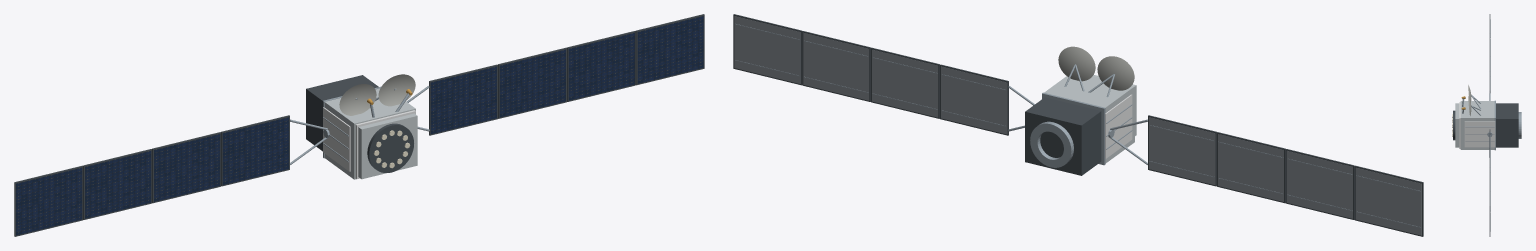
The model's file is ssl-1300-xband.glb.
3 renders of one model, left to right at view 1: azimuth 30°, elevation 25°; view 2: azimuth 150°, elevation 25°; view 3: azimuth 270°, elevation 25°, orthographic. The views are drawn at different scales.
Parts seen in each view (by area): view 1: Solar cell panel (×8), Solar panel frame (×8), Communications reflector (×2), Service module, Planar antenna aperture, Payload module, Antenna equipment shelf, Radiator face, Earth-facing deck; view 2: Rear array substrate (×8), Service module, Solar panel frame (×8), Communications reflector (×2), Payload module, Radiator face, Launch adapter ring, Module interface; view 3: Service module, Payload module, Radiator face, Antenna equipment shelf, Launch adapter ring, Solar panel frame, Earth-facing deck, Planar antenna aperture, Module interface, Radiator seam, Communications reflector.
Boxes of the visible parts, left/top/right/bottom form: Solar cell panel (×8): left=16, top=16, right=703, bottom=235; Solar panel frame (×8): left=14, top=14, right=704, bottom=236; Communications reflector (×2): left=339, top=74, right=415, bottom=115; Service module: left=306, top=75, right=378, bottom=151; Planar antenna aperture: left=367, top=123, right=413, bottom=172; Payload module: left=324, top=88, right=415, bottom=179; Antenna equipment shelf: left=358, top=113, right=417, bottom=179; Radiator face: left=323, top=107, right=350, bottom=171; Earth-facing deck: left=355, top=110, right=415, bottom=178; Rear array substrate (×8): left=734, top=16, right=1421, bottom=235; Service module: left=1025, top=97, right=1101, bottom=175; Solar panel frame (×8): left=733, top=14, right=1423, bottom=236; Communications reflector (×2): left=1058, top=46, right=1134, bottom=90; Payload module: left=1044, top=76, right=1134, bottom=163; Radiator face: left=1105, top=94, right=1132, bottom=158; Launch adapter ring: left=1030, top=121, right=1073, bottom=167; Module interface: left=1042, top=92, right=1105, bottom=165; Service module: left=1496, top=103, right=1518, bottom=147; Payload module: left=1460, top=101, right=1494, bottom=149; Radiator face: left=1464, top=121, right=1495, bottom=147; Antenna equipment shelf: left=1455, top=103, right=1459, bottom=147; Launch adapter ring: left=1518, top=112, right=1521, bottom=138; Solar panel frame: left=1489, top=187, right=1490, bottom=236; Earth-facing deck: left=1459, top=102, right=1460, bottom=148; Planar antenna aperture: left=1453, top=110, right=1455, bottom=140; Module interface: left=1494, top=100, right=1495, bottom=150; Radiator seam: left=1465, top=126, right=1494, bottom=127; Communications reflector: left=1468, top=96, right=1471, bottom=115.
Size of the model in its own units: 31.37 by 3.82 by 4.78.
9 materials, 1 textured.
